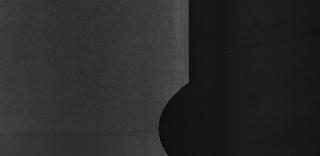welding line: (0, 126, 168, 136)
